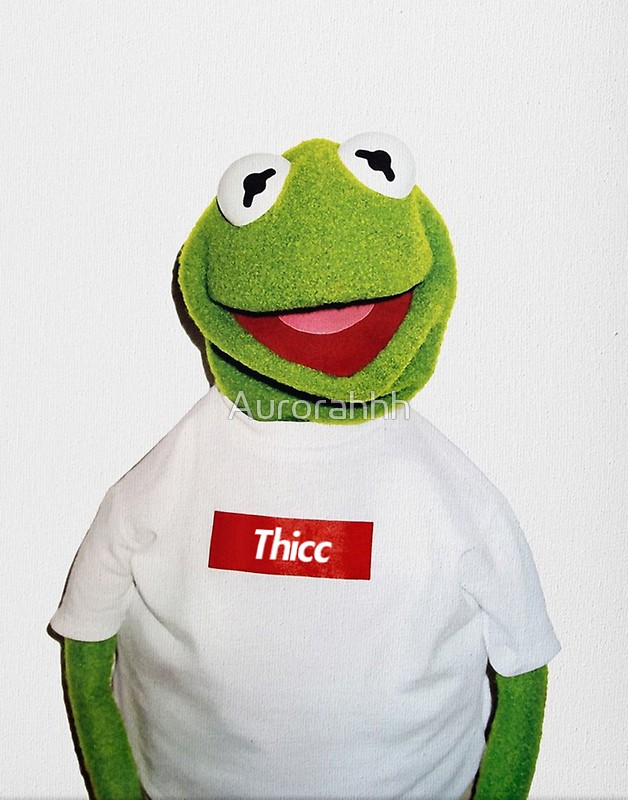kermit: (167, 129, 464, 413)
